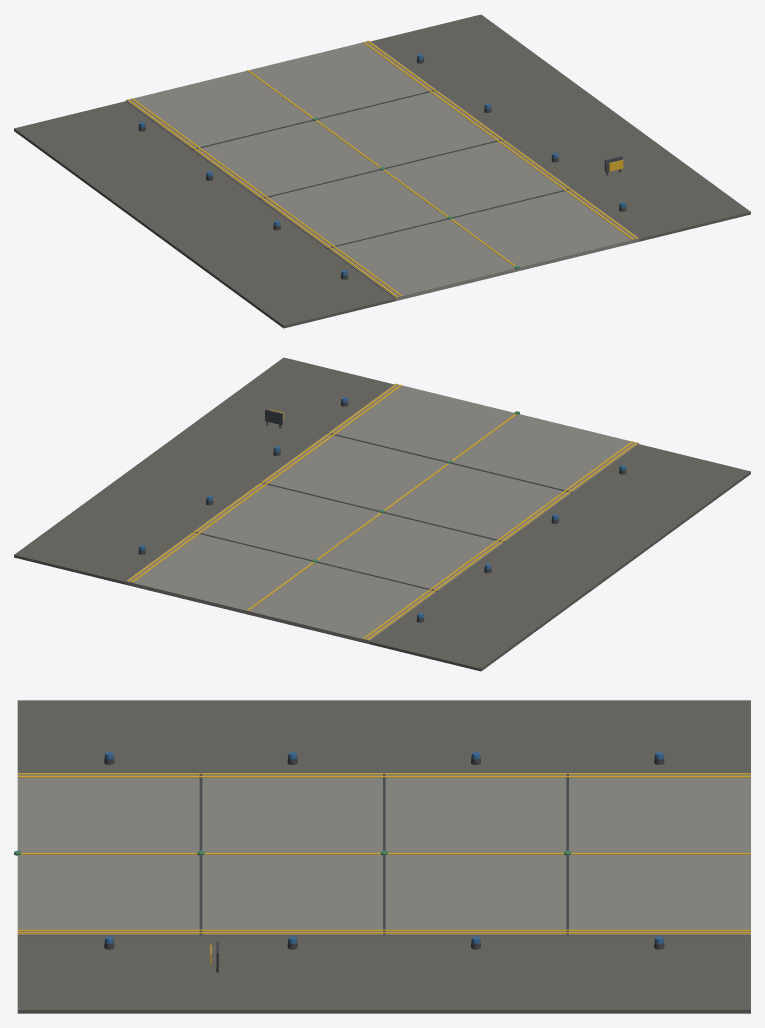
The model's file is mid.glb.
The picture shows the model from 3 angles, top to bottom: view 1: azimuth 30°, elevation 25°; view 2: azimuth 150°, elevation 25°; view 3: azimuth 270°, elevation 25°; orthographic projection. The views are drawn at different scales.
Parts seen in each view (by area): view 1: taxiway_pavement, shoulder_w, shoulder_e, edge_stripe_outer_w, edge_stripe_outer_e, edge_stripe_inner_w, edge_stripe_inner_e, centreline; view 2: taxiway_pavement, shoulder_w, shoulder_e, edge_stripe_outer_w, edge_stripe_outer_e, edge_stripe_inner_w, edge_stripe_inner_e, centreline; view 3: taxiway_pavement, shoulder_e, shoulder_w, edge_stripe_inner_e, edge_stripe_inner_w, edge_stripe_outer_w, edge_stripe_outer_e, centreline, slab_joint_3.
Part boxes in pixels (x1,y1,x2,y2): taxiway_pavement: (125,40,639,301); shoulder_w: (14,101,395,328); shoulder_e: (371,14,750,241); edge_stripe_outer_w: (127,99,397,297); edge_stripe_outer_e: (367,40,638,238); edge_stripe_inner_w: (131,98,402,296); edge_stripe_inner_e: (362,41,633,239); centreline: (247,70,515,266); taxiway_pavement: (125,383,639,644); shoulder_w: (369,444,750,671); shoulder_e: (14,357,393,584); edge_stripe_outer_w: (367,442,637,640); edge_stripe_outer_e: (126,383,397,581); edge_stripe_inner_w: (362,441,633,639); edge_stripe_inner_e: (131,384,402,582); centreline: (247,414,516,610); taxiway_pavement: (17,773,750,936); shoulder_e: (17,936,750,1013); shoulder_w: (17,700,750,772); edge_stripe_inner_e: (17,929,750,931); edge_stripe_inner_w: (17,776,750,777); edge_stripe_outer_w: (17,773,750,774); edge_stripe_outer_e: (17,932,750,933); centreline: (21,853,750,854); slab_joint_3: (199,772,202,934).
Bounding box in the file's own units: 44 × 1.6 × 44.22.
